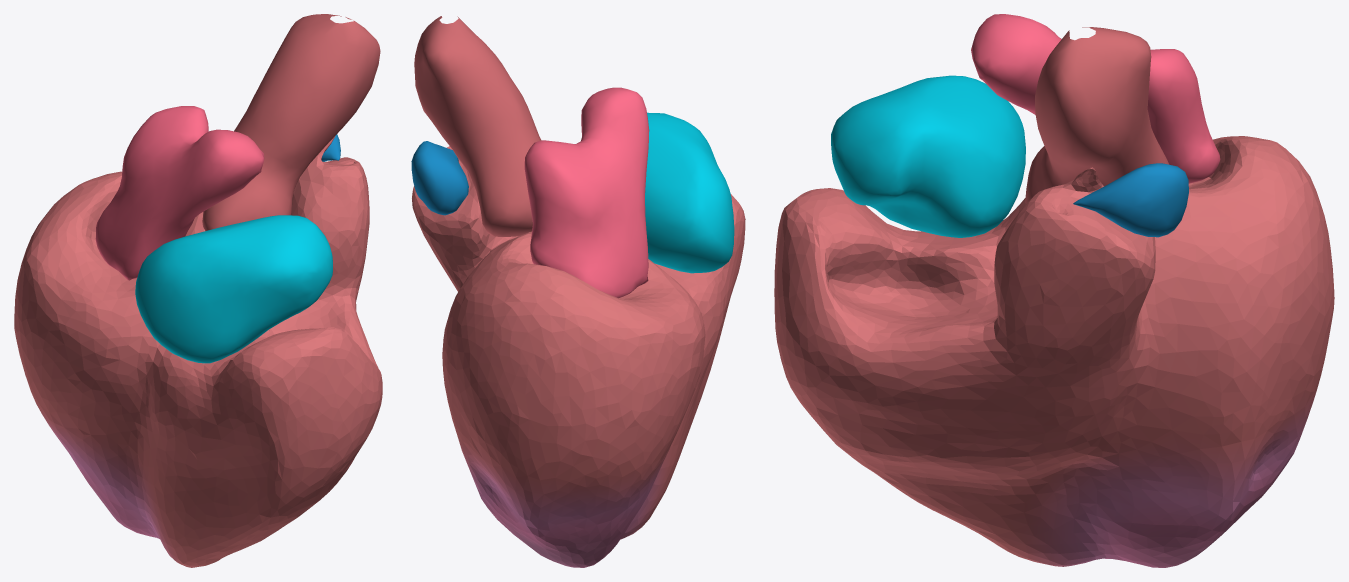
Rendered from frame_2.glb.
3 views of the same model, side by side, from view 1: azimuth 30°, elevation 25°; view 2: azimuth 150°, elevation 25°; view 3: azimuth 270°, elevation 25° (orthographic). The views are drawn at different scales.
Parts seen in each view (by area): view 1: Renderer Node; view 2: Renderer Node; view 3: Renderer Node.
Part boxes in pixels (box(x1,y1,x2,y2)): Renderer Node: box(14, 14, 382, 567); Renderer Node: box(411, 16, 745, 567); Renderer Node: box(774, 14, 1334, 567).
Bounding box in the file's own units: 102 × 158 × 127.
